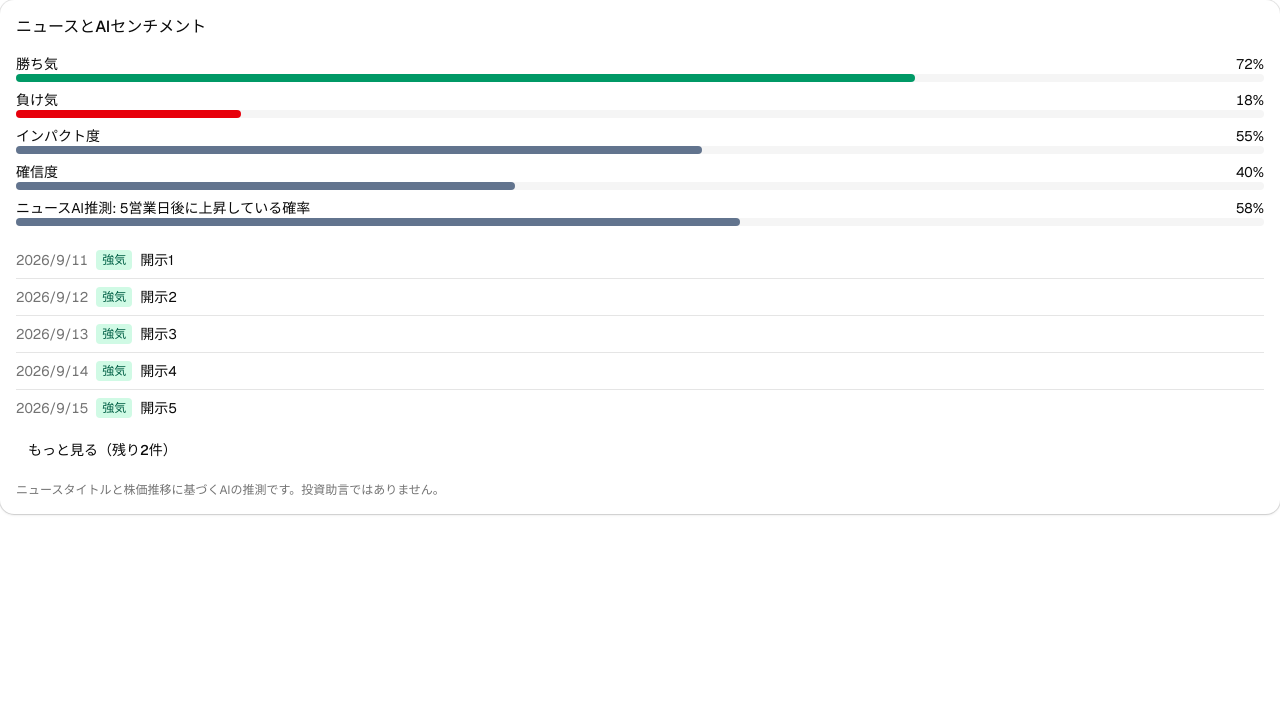
Test case: NewsSentimentPanel › shows the first 5 articles and expands the rest
Check: the link "開示5" is shown, box [140,399,177,417]
Check: the text "開示6" is not shown
Click the button "もっと見る（残り2件）": {"x": 102, "y": 450} [16,434,189,466]
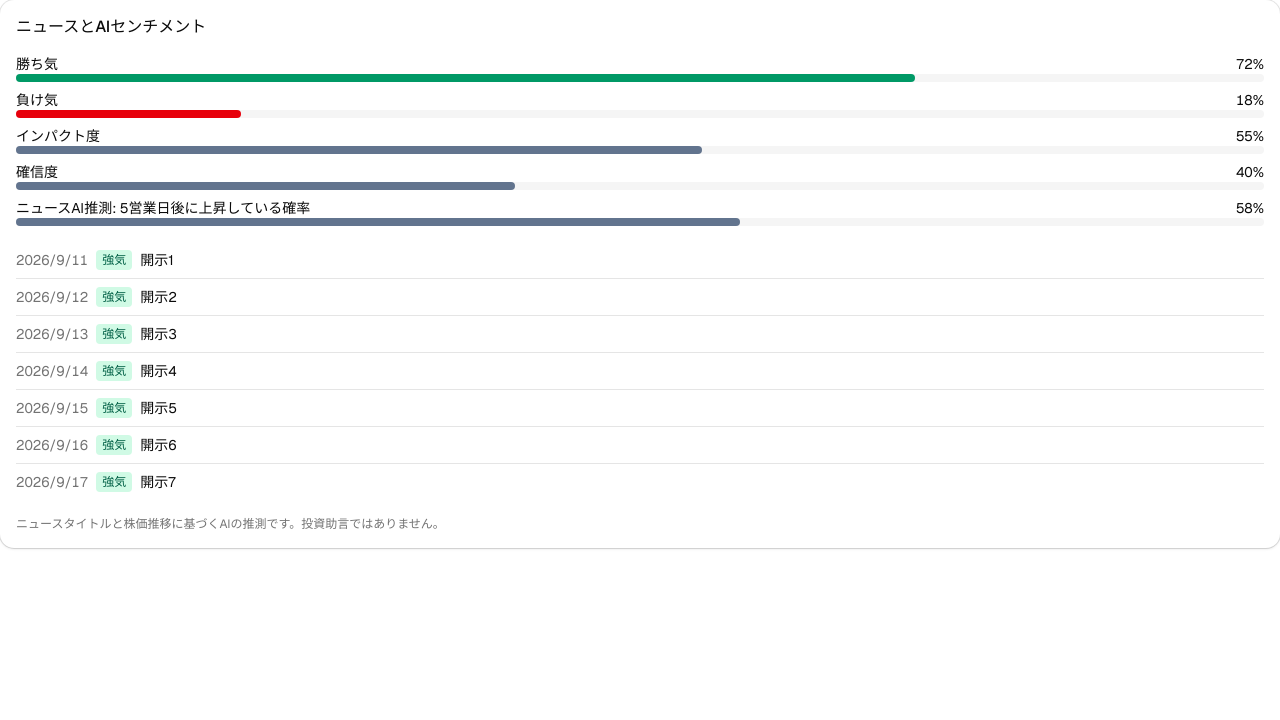
Check: the link "開示7" is shown, box [140,473,176,491]
Check: the button "もっと見る" is gone
